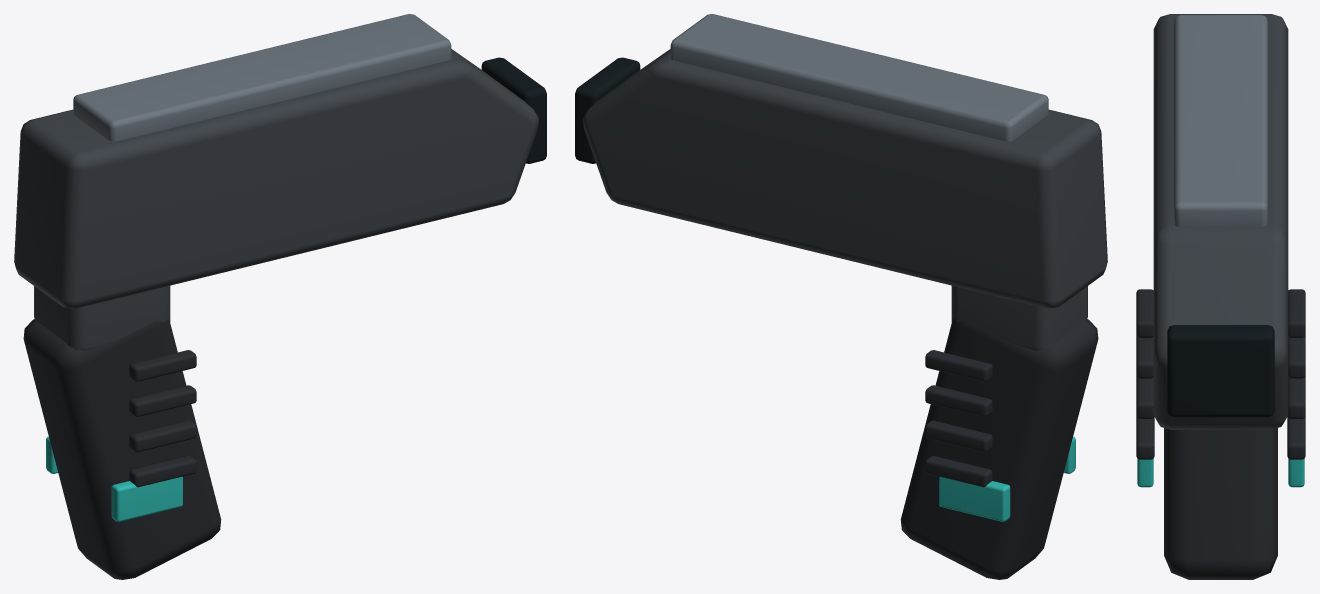
3 views of the same model, side by side, from view 1: azimuth 30°, elevation 25°; view 2: azimuth 150°, elevation 25°; view 3: azimuth 270°, elevation 25° (orthographic). The views are drawn at different scales.
Parts seen in each view (by area): view 1: R02__Upper_housing, R02__Grip, R02__Upper_trim, R02__Grip_bridge, R02, R02__Role_inlay, R02__Solid_front; view 2: R02__Upper_housing, R02__Grip, R02__Upper_trim, R02__Grip_bridge, R02, R02__Role_inlay.001, R02__Solid_front; view 3: R02__Upper_housing, R02__Upper_trim, R02__Grip, R02__Solid_front, R02, R02__Role_inlay, R02__Role_inlay.001.
Boxes of the visible parts, box(x1,y1,x2,y2) form: R02__Upper_housing: box(14, 49, 538, 308); R02__Grip: box(23, 319, 221, 579); R02__Upper_trim: box(73, 14, 451, 141); R02__Grip_bridge: box(34, 285, 170, 350); R02: box(129, 350, 196, 487); R02__Role_inlay: box(111, 476, 182, 521); R02__Solid_front: box(481, 57, 546, 163); R02__Upper_housing: box(583, 49, 1107, 308); R02__Grip: box(900, 319, 1098, 579); R02__Upper_trim: box(670, 14, 1048, 141); R02__Grip_bridge: box(951, 285, 1087, 350); R02: box(925, 350, 992, 487); R02__Role_inlay.001: box(939, 476, 1010, 521); R02__Solid_front: box(575, 57, 640, 163); R02__Upper_housing: box(1153, 14, 1288, 429); R02__Upper_trim: box(1174, 15, 1267, 227); R02__Grip: box(1164, 428, 1277, 579); R02__Solid_front: box(1167, 325, 1274, 417); R02: box(1136, 289, 1305, 459); R02__Role_inlay: box(1137, 459, 1153, 487); R02__Role_inlay.001: box(1288, 459, 1304, 487).
Bounding box in the file's own units: 0.3141 × 0.2853 × 0.082.
